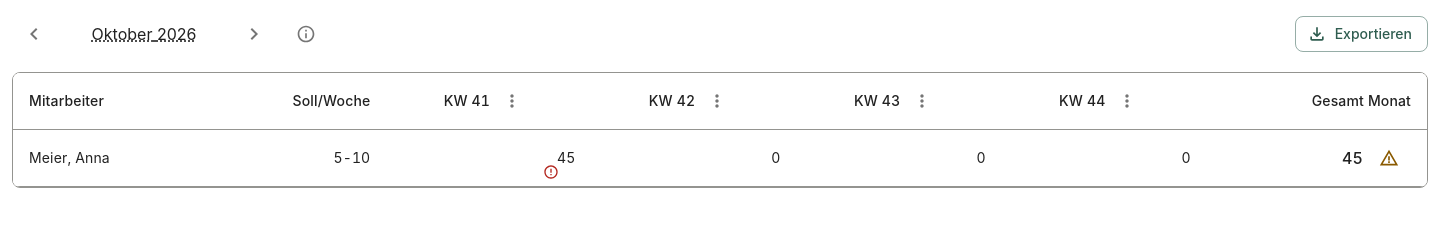
Test: MonthOverviewView › shows a warning icon and tooltip next to Gesamt Monat when a Minijob employee exceeds their monthly-hours cap
What coordinates should you click on to do the following:
click the button named "Monatsgrenze überschritten anzeigen"
I would click on:
 (1389, 158)
Its box is [1367,136,1411,180].
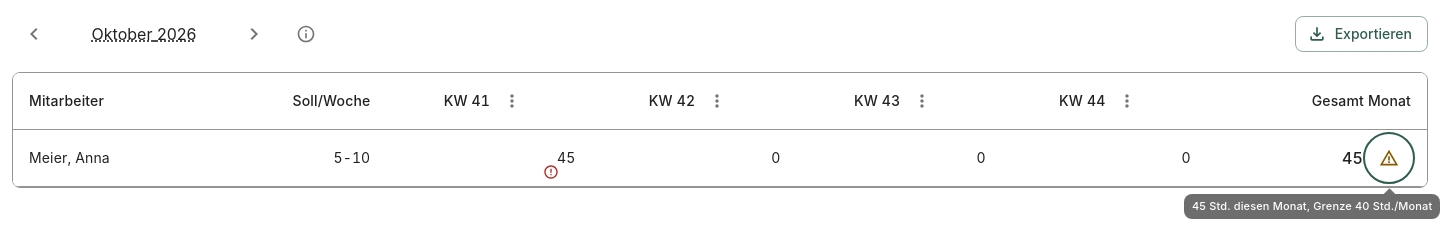
Check: the text "45 Std. diesen Monat, Grenze 40 Std./Monat" is shown, box [1184,194,1439,218]
